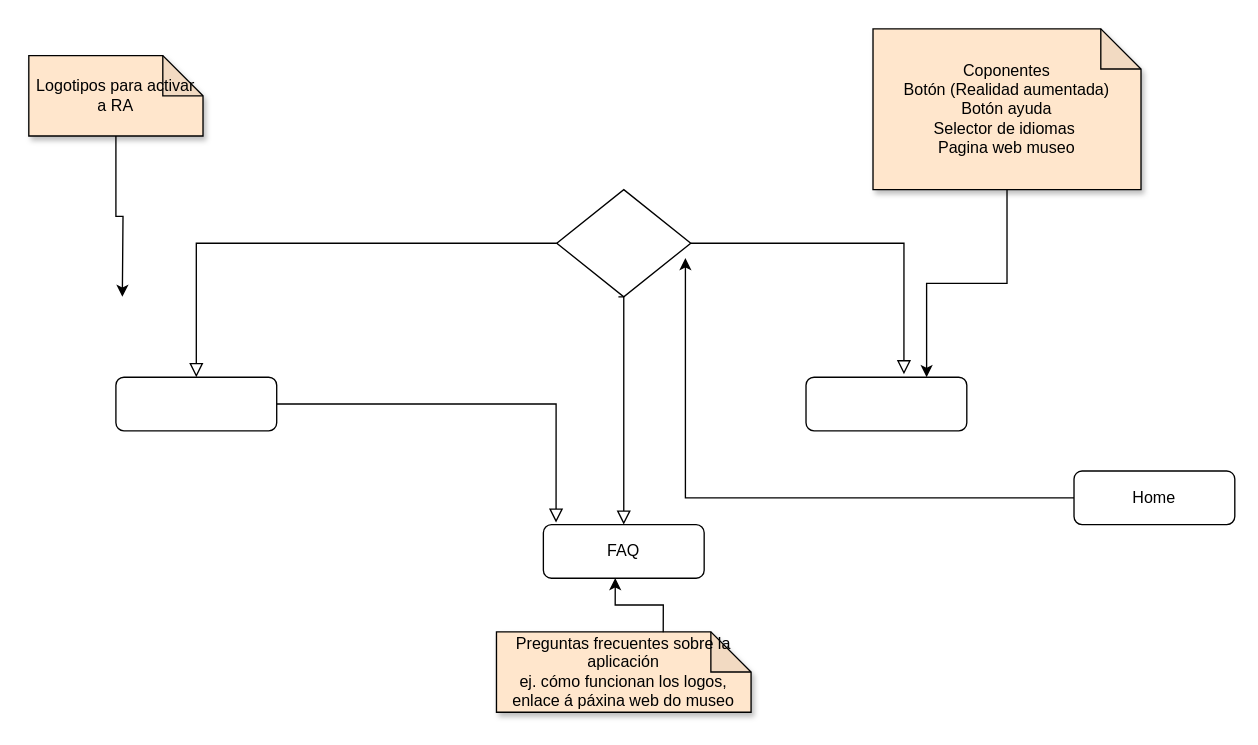
This 1258x745 diagram has some shape labels left out. Here are the shapes that lost their labels. From the top down, the centre of each, then its label:
the point at 623,242: navegación
the point at 196,403: RA
the point at 886,403: Info
